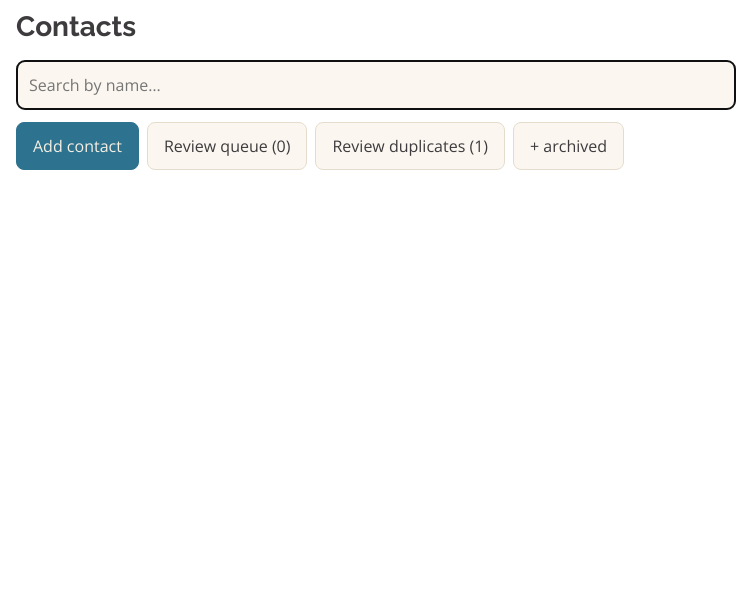
Test: a pair's actions follow whether the row carries the decision › keeps 'not duplicates' but withholds MERGE when the records conflict
Click the button "Review duplicates (1)": (410, 146) x1=316 y1=122 x2=505 y2=170
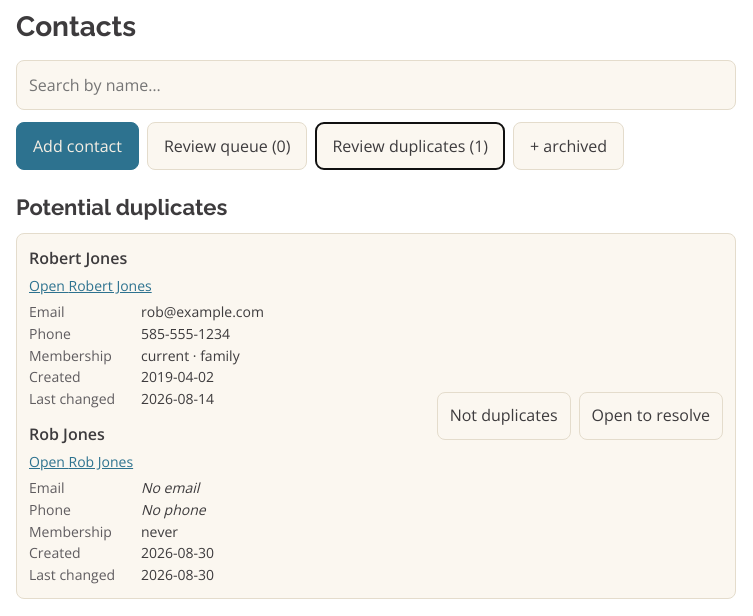
Check: the button "Not duplicates" is shown, box x1=437 y1=392 x2=571 y2=440
Check: the button "Open to resolve" is shown, box x1=578 y1=392 x2=723 y2=440
